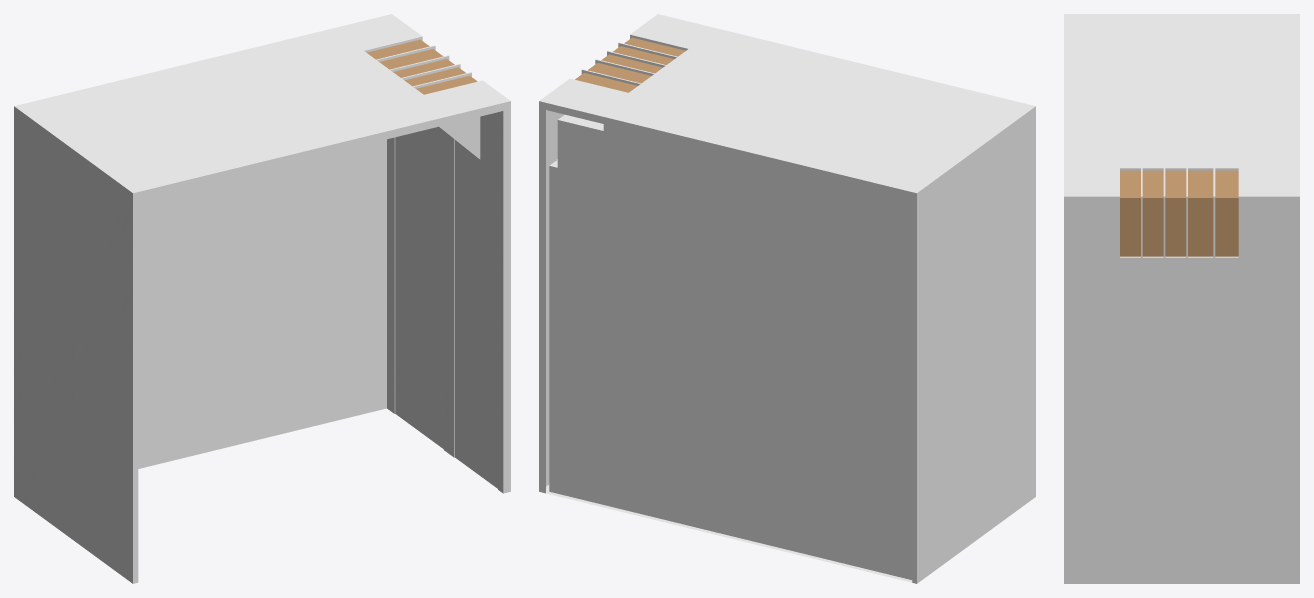
File: room02.obj
The picture shows the model from 3 angles, left to right: view 1: azimuth 30°, elevation 25°; view 2: azimuth 150°, elevation 25°; view 3: azimuth 270°, elevation 25°; orthographic projection.
Parts seen in each view (by area): view 1: room02; view 2: room02; view 3: room02.
Part boxes in pixels (x1,y1,x2,y2): room02: [14, 14, 510, 583]; room02: [539, 14, 1035, 583]; room02: [1064, 14, 1299, 583].
Size of the model in its own units: 248 by 244 by 135.
